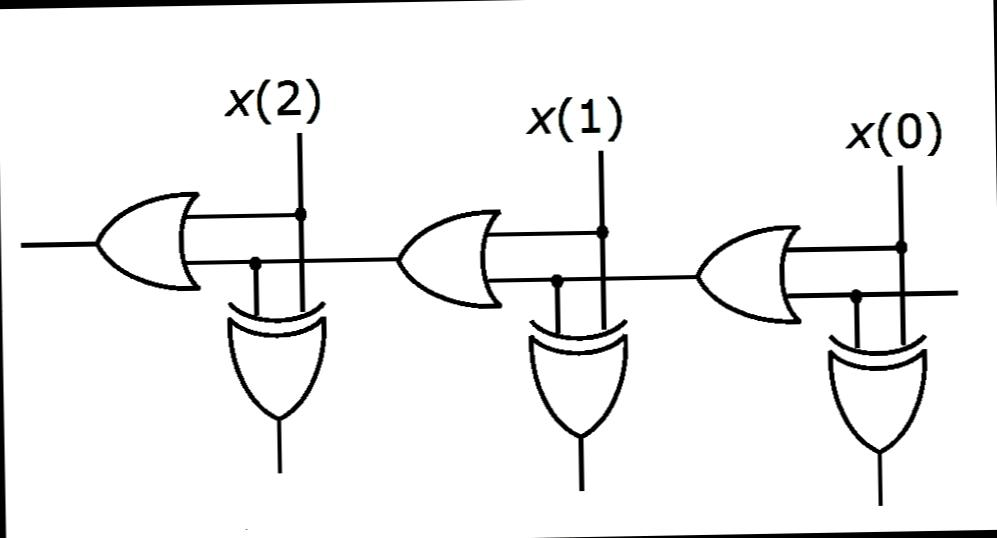or: (82, 183, 207, 299), (385, 202, 508, 318), (685, 218, 807, 331)
xor: (218, 293, 334, 428), (522, 309, 636, 446), (820, 326, 934, 461)
